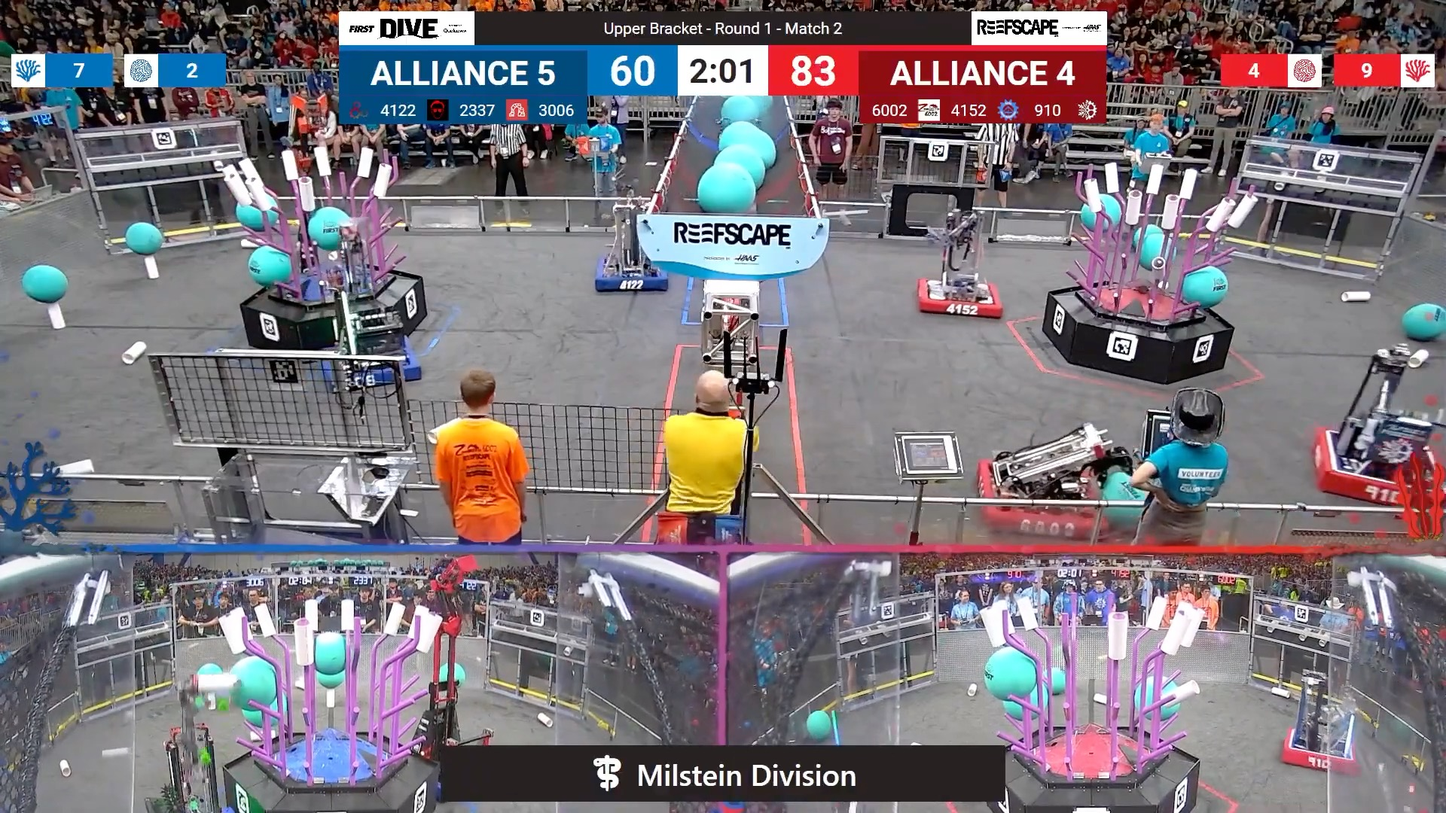bumpers: (1304, 419, 1445, 510), (313, 340, 426, 391), (1274, 718, 1365, 778), (910, 273, 1010, 326), (588, 252, 677, 296)
